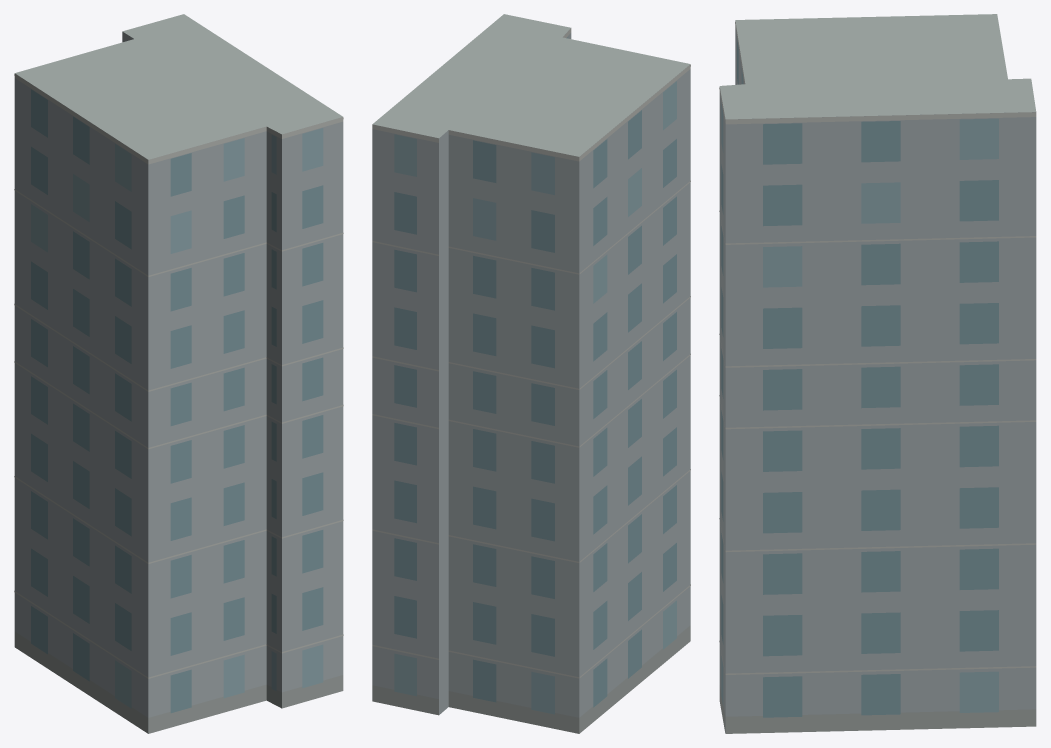
The model's file is survey-upis-33046686.glb.
The picture shows the model from 3 angles, left to right: view 1: azimuth 30°, elevation 25°; view 2: azimuth 150°, elevation 25°; view 3: azimuth 270°, elevation 25°; orthographic projection. The views are drawn at different scales.
Parts seen in each view (by area): view 1: survey-upis-33046686.tmp; view 2: survey-upis-33046686.tmp; view 3: survey-upis-33046686.tmp.
Boxes of the visible parts, bbox=[...] form: survey-upis-33046686.tmp: bbox=[14, 14, 343, 733]; survey-upis-33046686.tmp: bbox=[372, 14, 690, 733]; survey-upis-33046686.tmp: bbox=[719, 14, 1036, 733].
Bounding box in the file's own units: 11.06 × 30 × 14.04.
